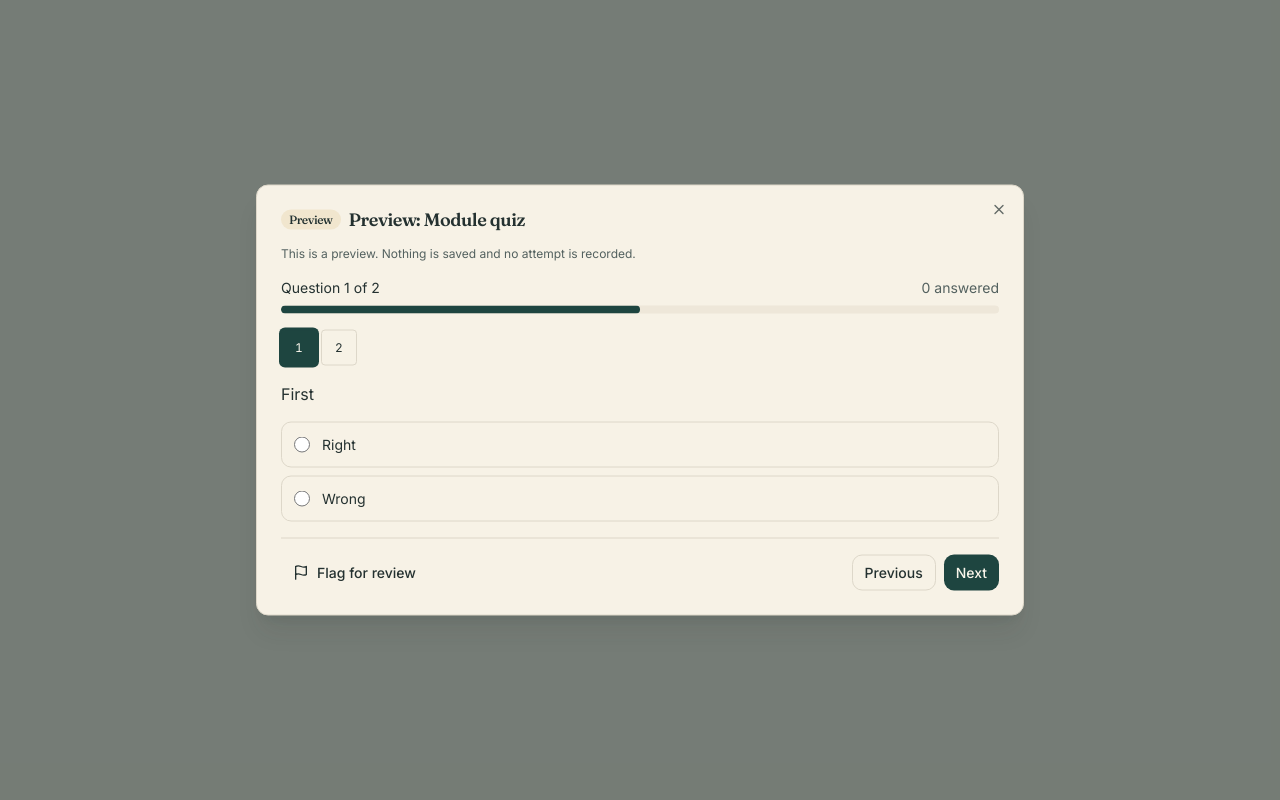
Test case: AssessmentPreview › jumps to a question from the navigator
Click the button named "Go to question 2, not answered" at point(339, 348), box [321,330,357,366]
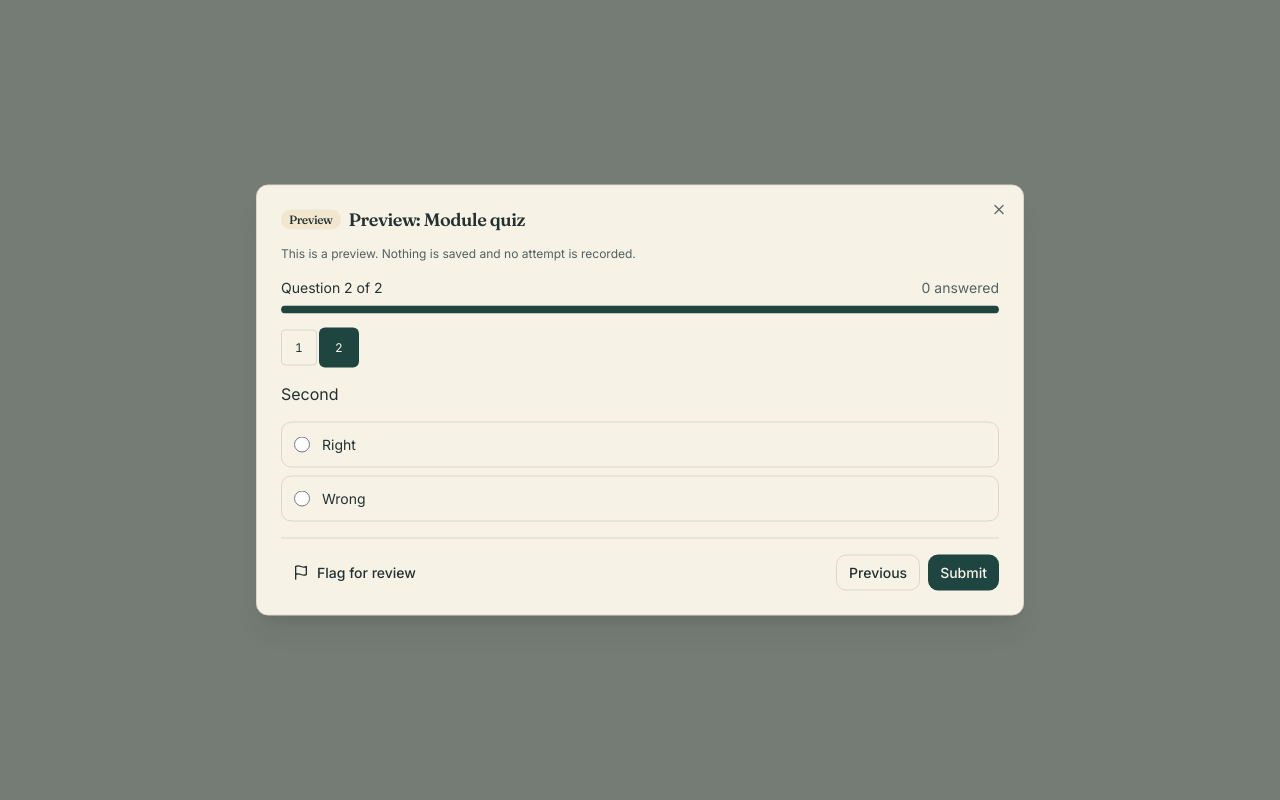
Result: the text "Question 2 of 2" is shown at [281,278,383,298]
